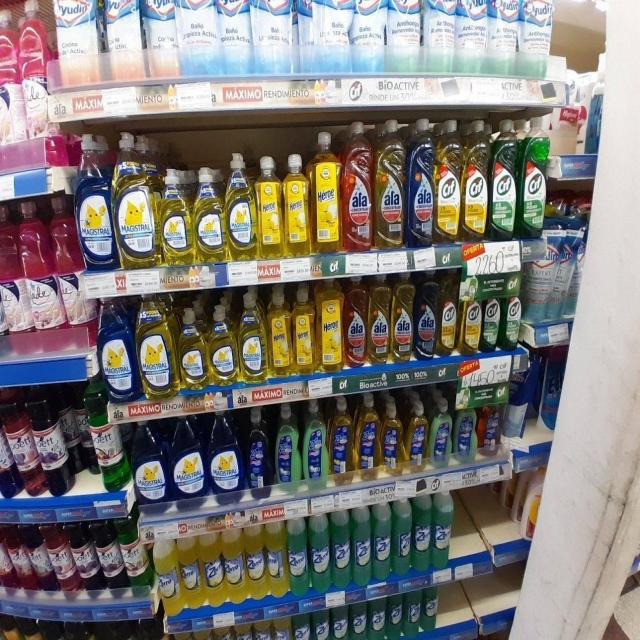ala_conc_amarillo: (374, 118, 406, 250), (391, 271, 414, 362), (368, 272, 390, 364)
ala_conc_azul: (406, 117, 434, 248), (415, 270, 437, 360)
ala_conc_rojo: (342, 120, 373, 252), (344, 274, 367, 368)
cif_conc_bot_amarilla: (462, 118, 489, 242), (435, 118, 461, 242), (459, 270, 482, 354), (438, 268, 458, 356)
cif_conc_botella_verde: (490, 117, 518, 240), (520, 116, 548, 238), (502, 265, 521, 351), (482, 270, 500, 352)
magistral_con_amarillo: (114, 132, 158, 268), (138, 298, 176, 400), (226, 152, 256, 261), (160, 167, 193, 264), (194, 165, 225, 262), (239, 287, 267, 383), (178, 306, 208, 390), (208, 303, 238, 386), (234, 621, 253, 640), (214, 625, 234, 640)
magistral_con_azul: (77, 132, 114, 270), (100, 297, 136, 403), (170, 414, 207, 500), (133, 420, 169, 506), (208, 410, 243, 496)
magistral_con_verde: (254, 619, 273, 640)
zorro: (274, 401, 301, 491), (302, 397, 328, 490), (246, 406, 272, 492), (329, 395, 354, 484), (355, 392, 379, 480), (381, 398, 404, 476), (405, 401, 428, 474), (429, 399, 452, 470), (352, 505, 372, 586), (453, 404, 478, 467), (349, 599, 367, 640), (331, 603, 348, 640), (312, 607, 329, 640), (293, 611, 311, 640), (273, 615, 292, 640)
